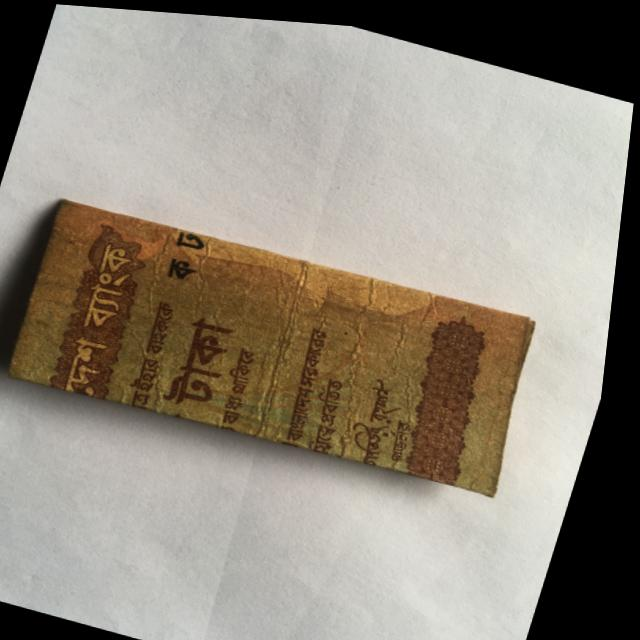Taka: (0, 184, 575, 507)
